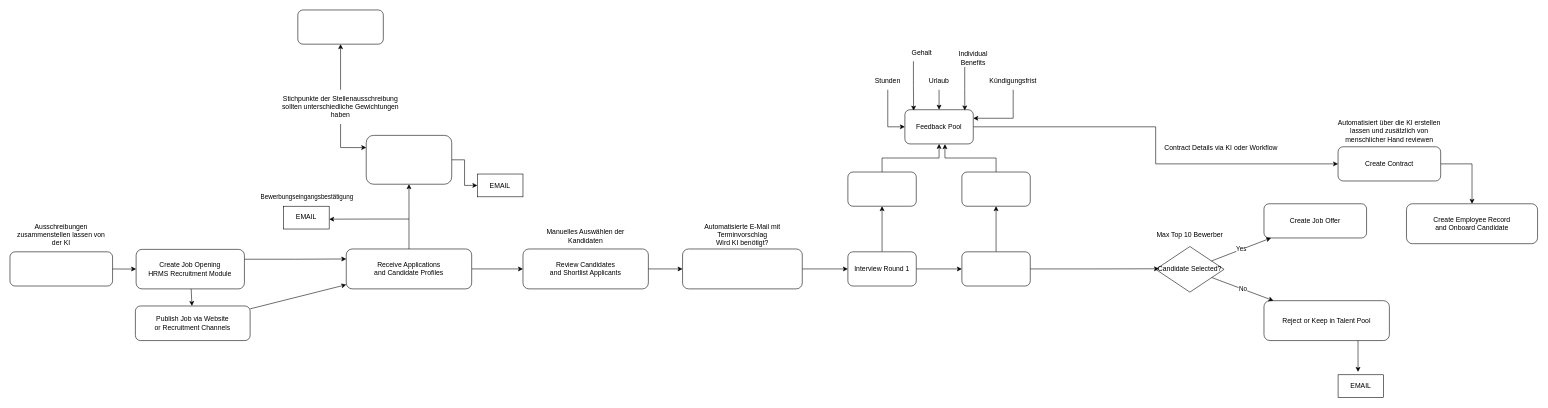
Some shapes in this 1548 by 408 pixel diagram are drawn without their labels. Each missing label, with the box of its shape:
Feedback 1: (847, 171, 916, 206)
Feedback 2: (961, 171, 1030, 206)
Interview Round 2: (961, 251, 1030, 286)
KI entscheidet zunächst Gewichtung: (297, 9, 383, 44)
Ranking von der KI, z.B. Punktesystem; Automatisierte Aussortierung: (366, 135, 452, 184)
Recruitment Need Identified: (9, 251, 113, 286)
Schedule & Conduct Interviews: (682, 248, 802, 289)
